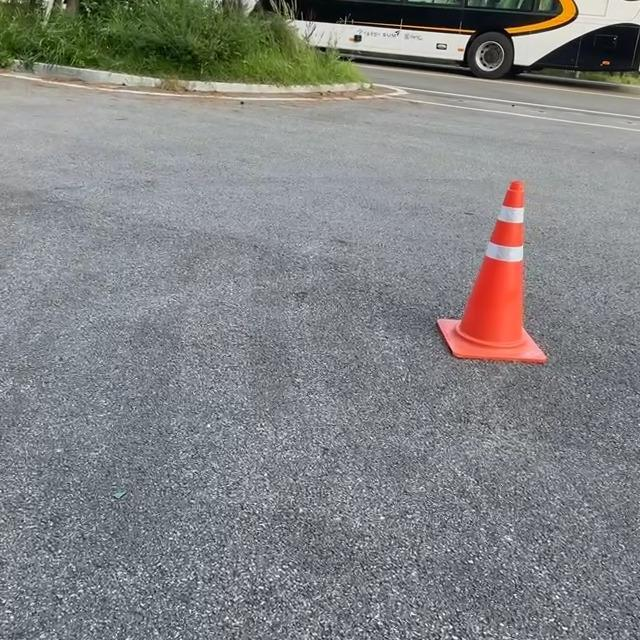fallen_object: (400, 169, 594, 430)
